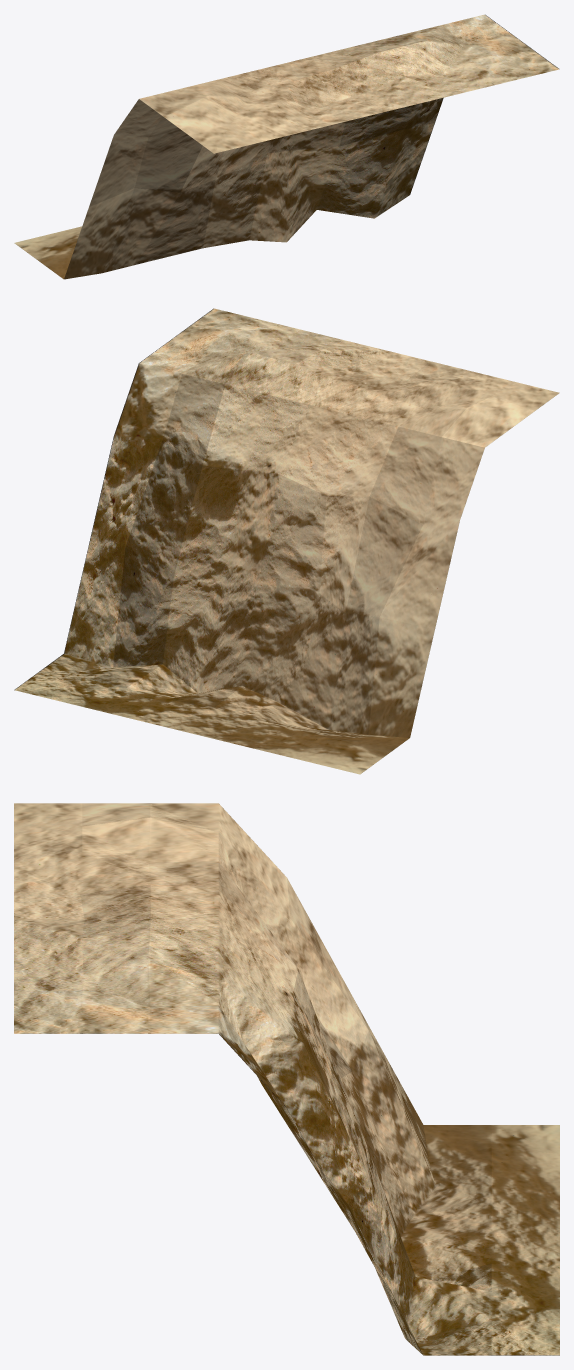
The model's file is MONTANHA_BORDA.glb.
3 renders of one model, top to bottom at view 1: azimuth 30°, elevation 25°; view 2: azimuth 150°, elevation 25°; view 3: azimuth 270°, elevation 25°, orthographic. The views are drawn at different scales.
Visible parts, largest first — view 1: MONTANHA_NORTE_Plano; view 2: MONTANHA_NORTE_Plano; view 3: MONTANHA_NORTE_Plano.
Part boxes in pixels (left/top/right/bottom): MONTANHA_NORTE_Plano: left=14, top=14, right=559, bottom=279; MONTANHA_NORTE_Plano: left=14, top=308, right=559, bottom=774; MONTANHA_NORTE_Plano: left=14, top=803, right=559, bottom=1355.
Bounding box in the file's own units: 2 × 1.44 × 2.
1 material, 1 textured.
